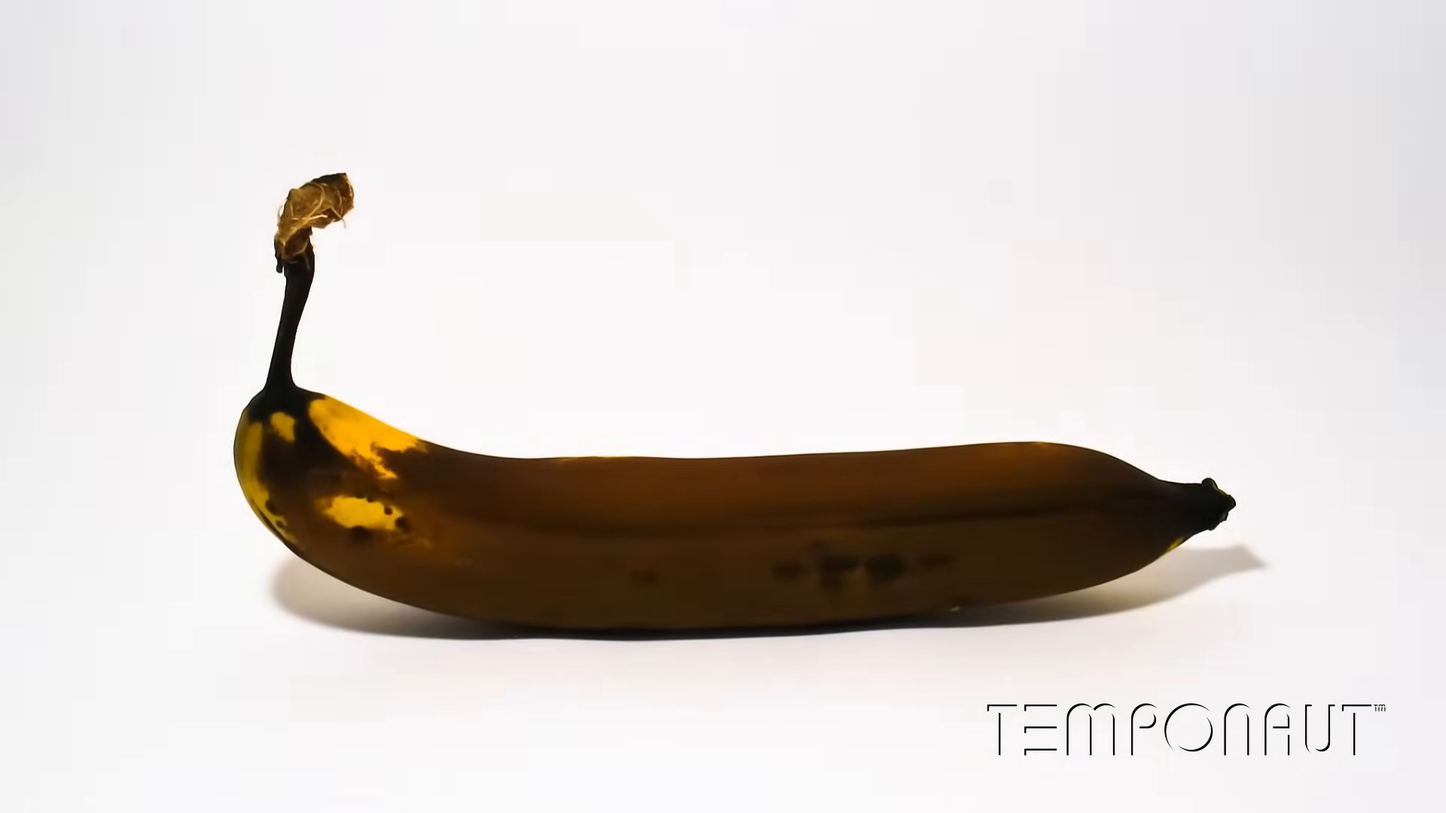banana_rotten: (231, 171, 1237, 635)
